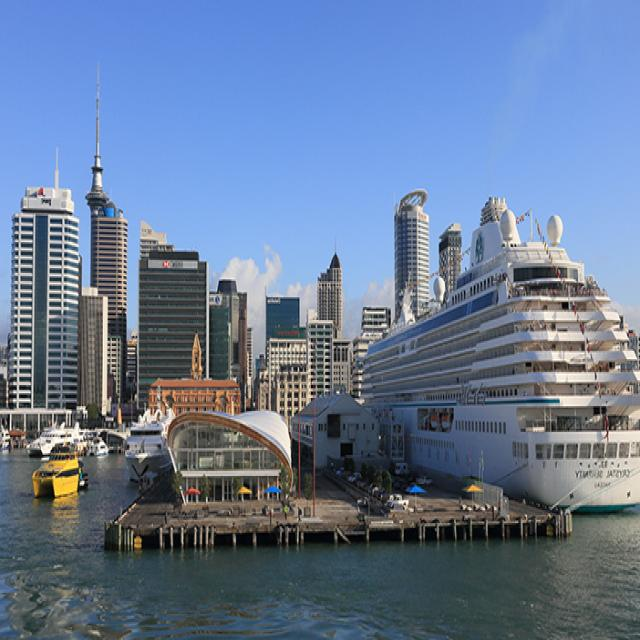passenger ship: (356, 229, 640, 504), (122, 412, 169, 487), (36, 438, 84, 505)
